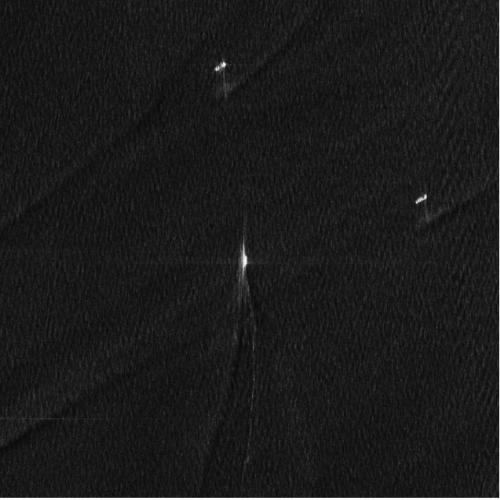ship: (213, 61, 227, 72), (415, 193, 427, 205), (242, 253, 248, 270)
